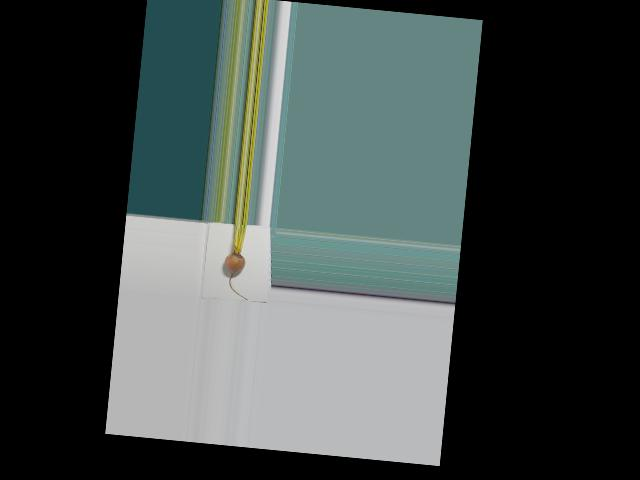beet: (221, 223, 254, 300)
